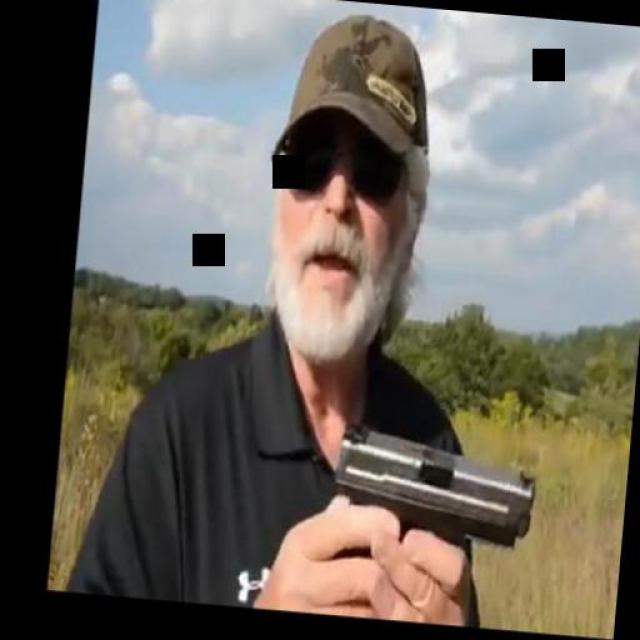gun: (310, 415, 541, 630)
